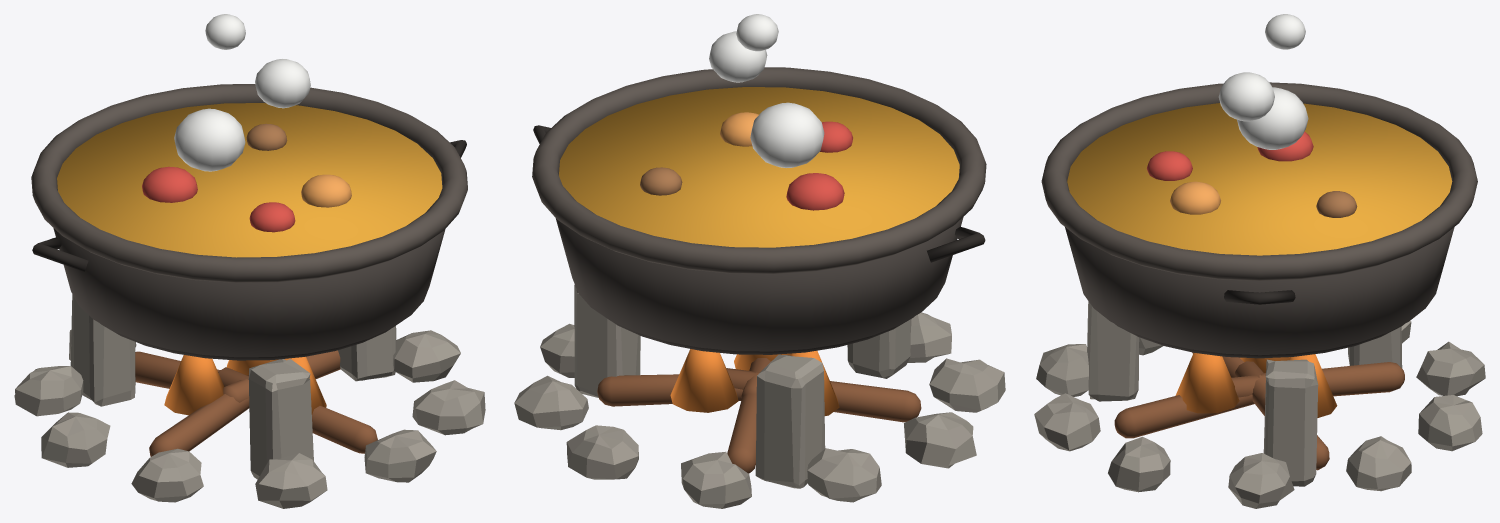
Rendered from event-pot.glb.
The picture shows the model from 3 angles, left to right: view 1: azimuth 30°, elevation 25°; view 2: azimuth 150°, elevation 25°; view 3: azimuth 270°, elevation 25°; orthographic projection. The views are drawn at different scales.
Visible parts, largest first — view 1: pot, steam, flame; view 2: pot, steam, flame; view 3: pot, steam, flame.
Boxes of the visible parts, x1,y1,x2,y2 form: pot: (14, 84, 485, 508); steam: (174, 14, 310, 171); flame: (164, 355, 326, 415); pot: (514, 67, 1005, 508); steam: (709, 14, 824, 167); flame: (670, 349, 839, 415); pot: (1034, 82, 1485, 508); steam: (1218, 14, 1308, 149); flame: (1175, 353, 1337, 417).
Size of the model in its own units: 1.95 by 1.69 by 1.76.
